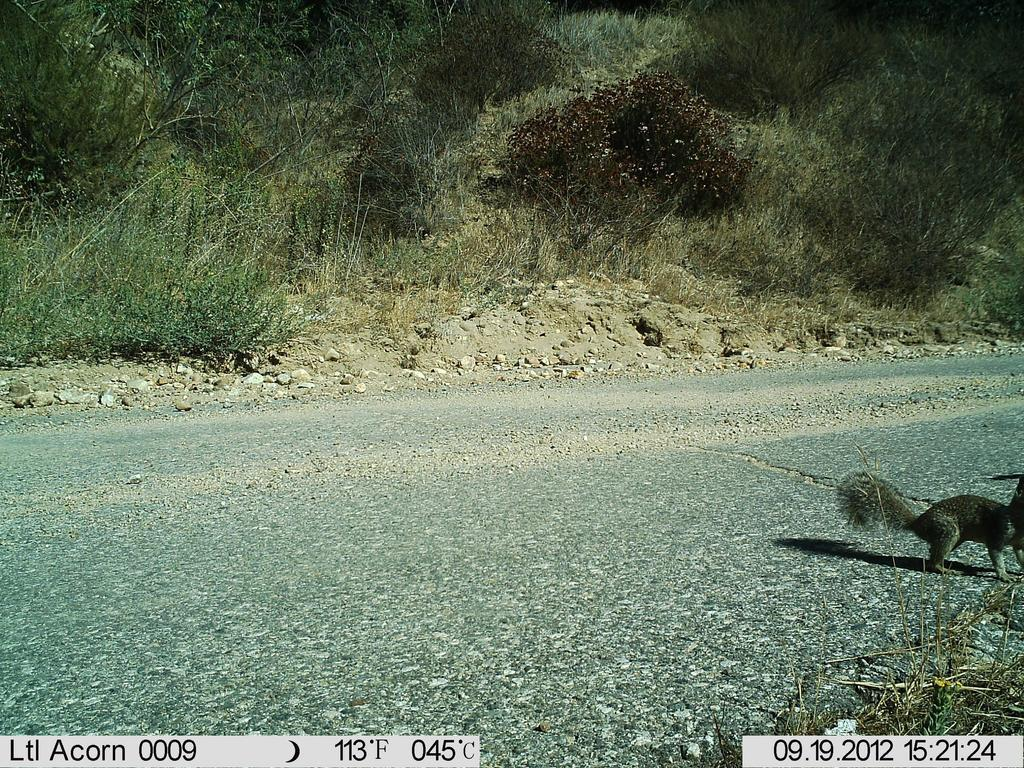squirrel: (829, 431, 1023, 581)
